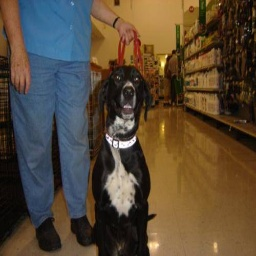dog: (76, 61, 159, 256)
